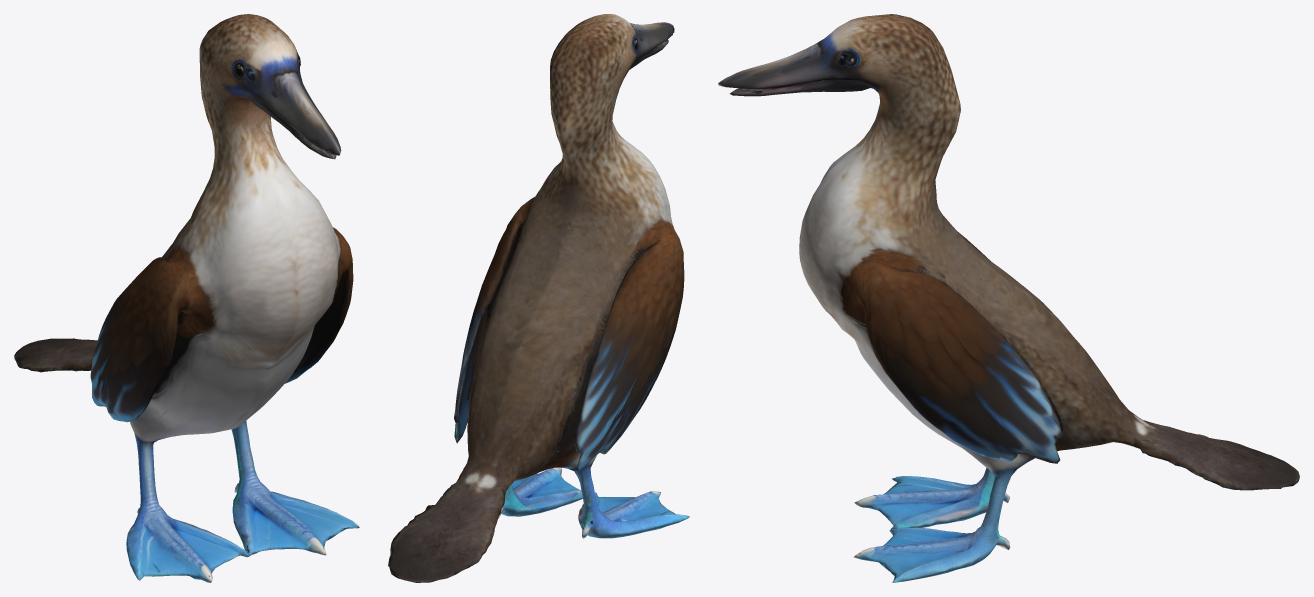
Rendered from Booby_on_the_Rocks_0519041549_texture.glb.
3 renders of one model, left to right at view 1: azimuth 30°, elevation 25°; view 2: azimuth 150°, elevation 25°; view 3: azimuth 270°, elevation 25°, orthographic. The views are drawn at different scales.
Size of the model in its own units: 0.8346 by 1.95 by 1.99.
1 material, 1 textured.
